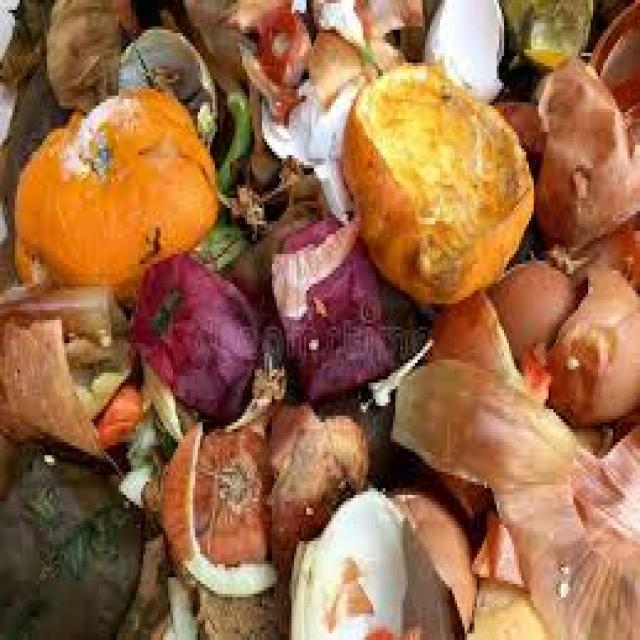organic: (332, 64, 532, 284), (154, 397, 368, 596), (402, 355, 590, 549), (6, 410, 159, 640), (499, 33, 639, 274), (23, 102, 228, 245), (272, 214, 396, 406), (519, 250, 634, 393), (128, 268, 251, 392)
